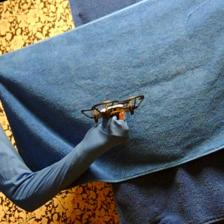drone: (81, 92, 145, 123)
